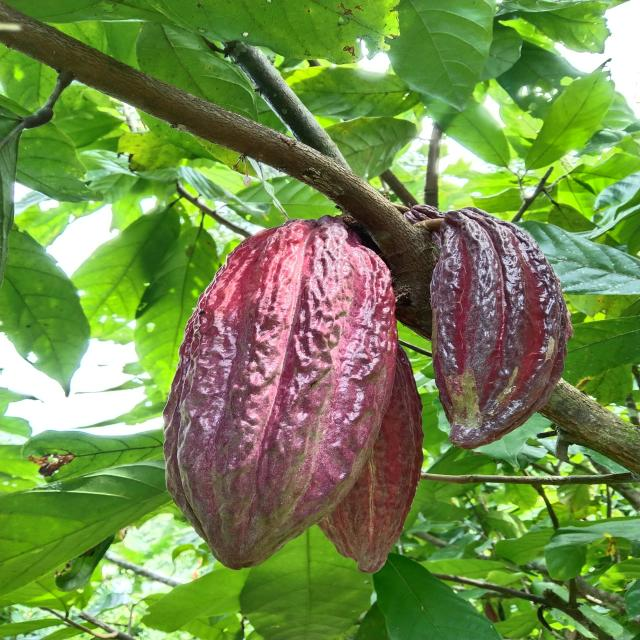Sana: (153, 218, 400, 572), (433, 205, 558, 446), (337, 346, 422, 572)
